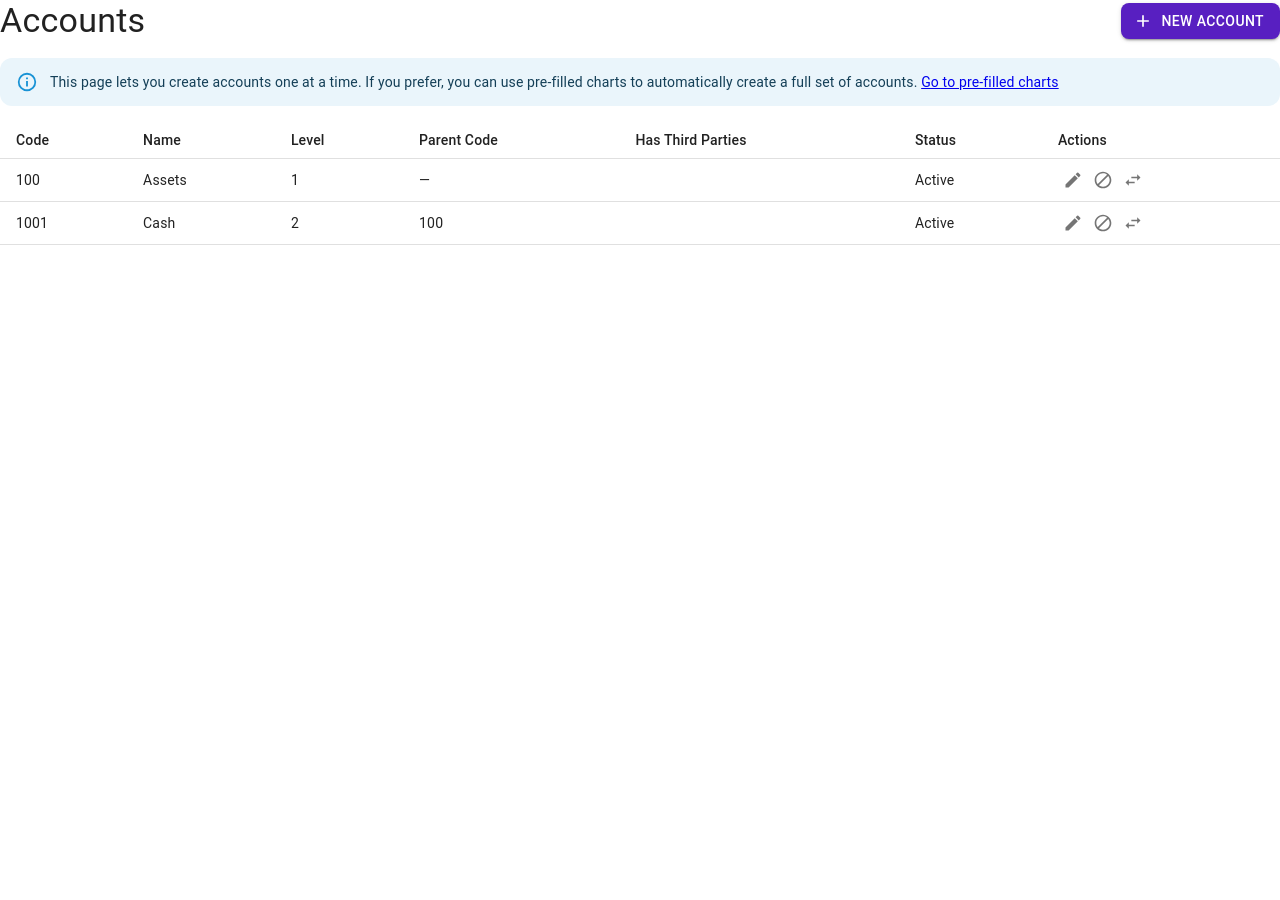
Scenario: AccountsPage › Edit button opens dialog with account data pre-populated
Click the button with test id "edit-account-acc-1": x=1073, y=180 [1058,165,1088,195]
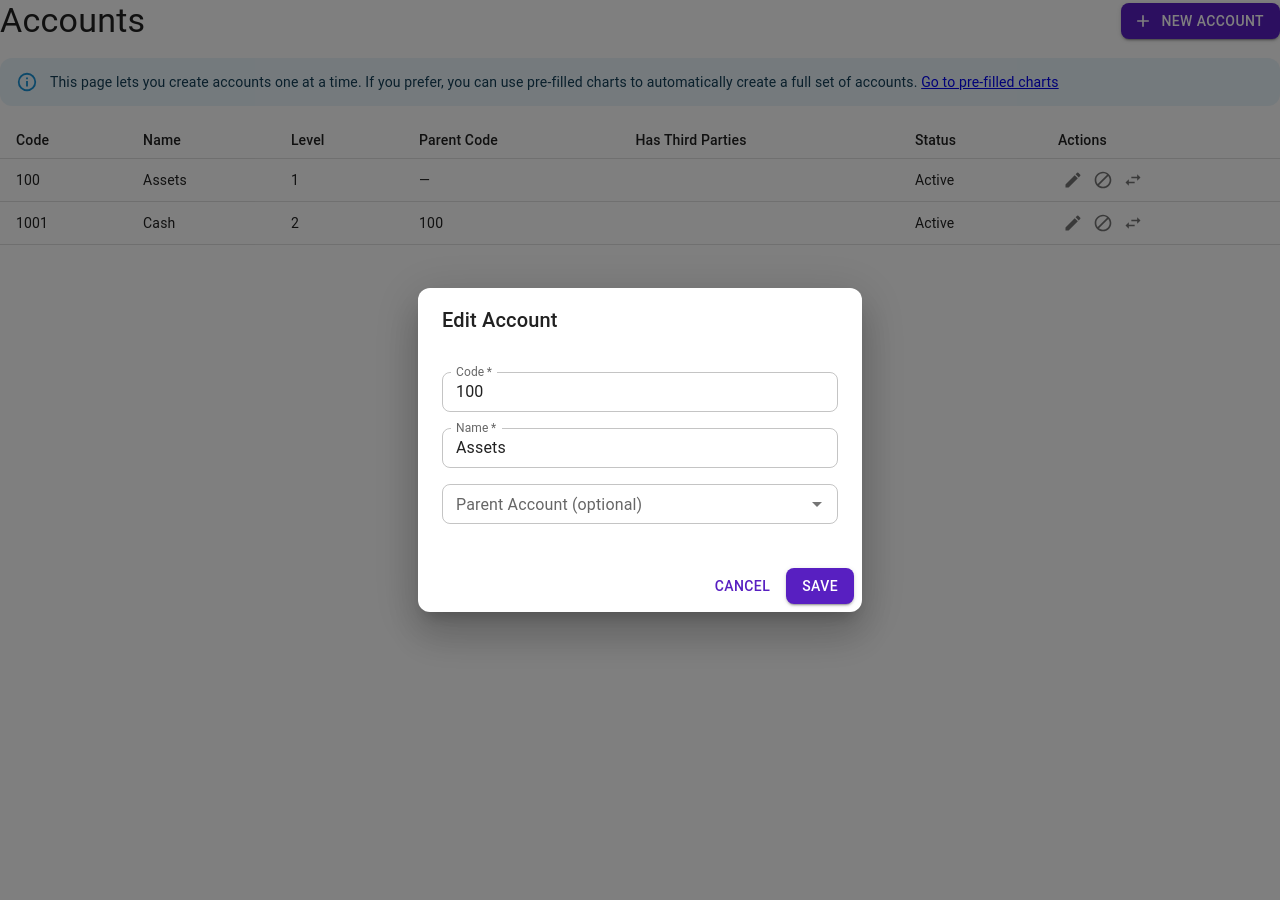
expect the heading "Edit Account" is shown: met, box [442,308,558,332]
expect the field showing "100" is shown: met, box [442,372,838,412]
expect the field showing "Assets" is shown: met, box [442,428,838,468]
